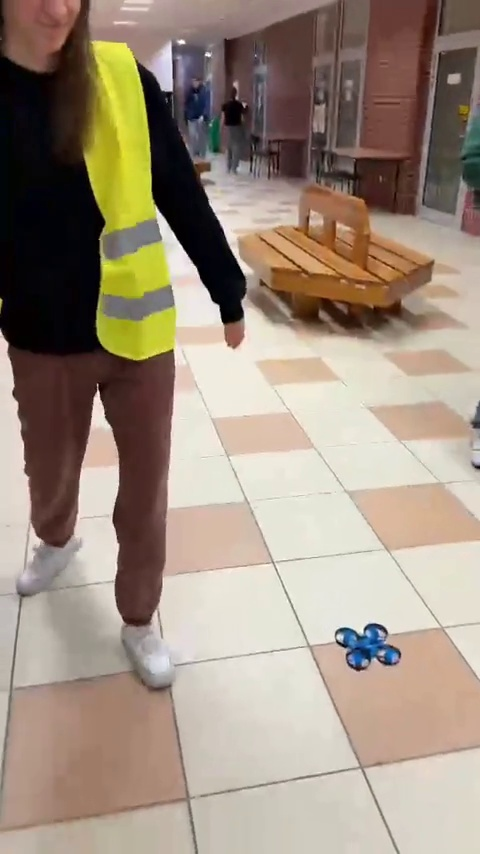drone: (328, 628, 403, 668)
no vest: (214, 76, 248, 175), (178, 73, 211, 159)
vest: (2, 6, 212, 674)
